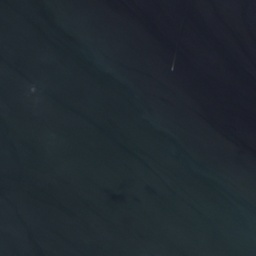Ship: (170, 54, 177, 71)
